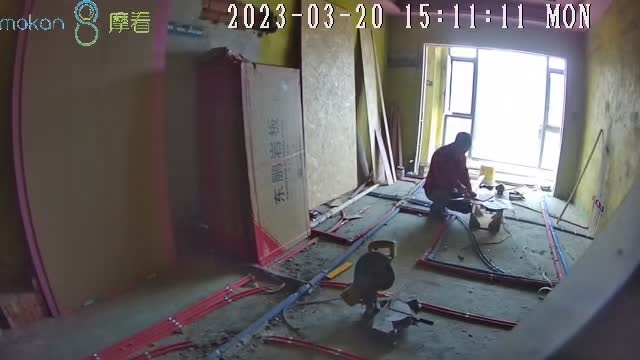people: (419, 132, 473, 217)
window: (440, 47, 564, 170)
